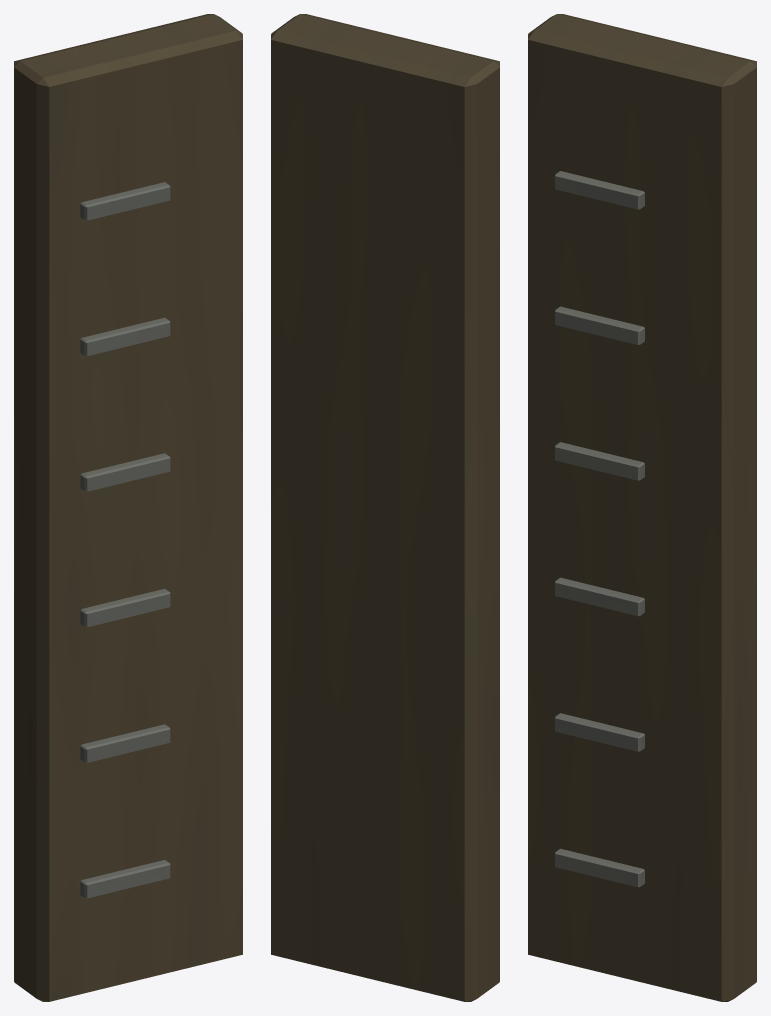
The model's file is WarrensC_PWC13_WaterGaugeBoard_Mars_SM.fbx.
The picture shows the model from 3 angles, left to right: view 1: azimuth 30°, elevation 25°; view 2: azimuth 150°, elevation 25°; view 3: azimuth 330°, elevation 25°; orthographic projection.
Parts seen in each view (by area): view 1: WarrensC_PWC13_WaterGaugeBoard_Mars_SM.001; view 2: WarrensC_PWC13_WaterGaugeBoard_Mars_SM.001; view 3: WarrensC_PWC13_WaterGaugeBoard_Mars_SM.001.
Boxes of the visible parts, x1,y1,x2,y2 form: WarrensC_PWC13_WaterGaugeBoard_Mars_SM.001: (14, 14, 242, 1001); WarrensC_PWC13_WaterGaugeBoard_Mars_SM.001: (271, 14, 499, 1001); WarrensC_PWC13_WaterGaugeBoard_Mars_SM.001: (528, 14, 756, 1001).
Size of the model in its own units: 35 by 12 by 150.
